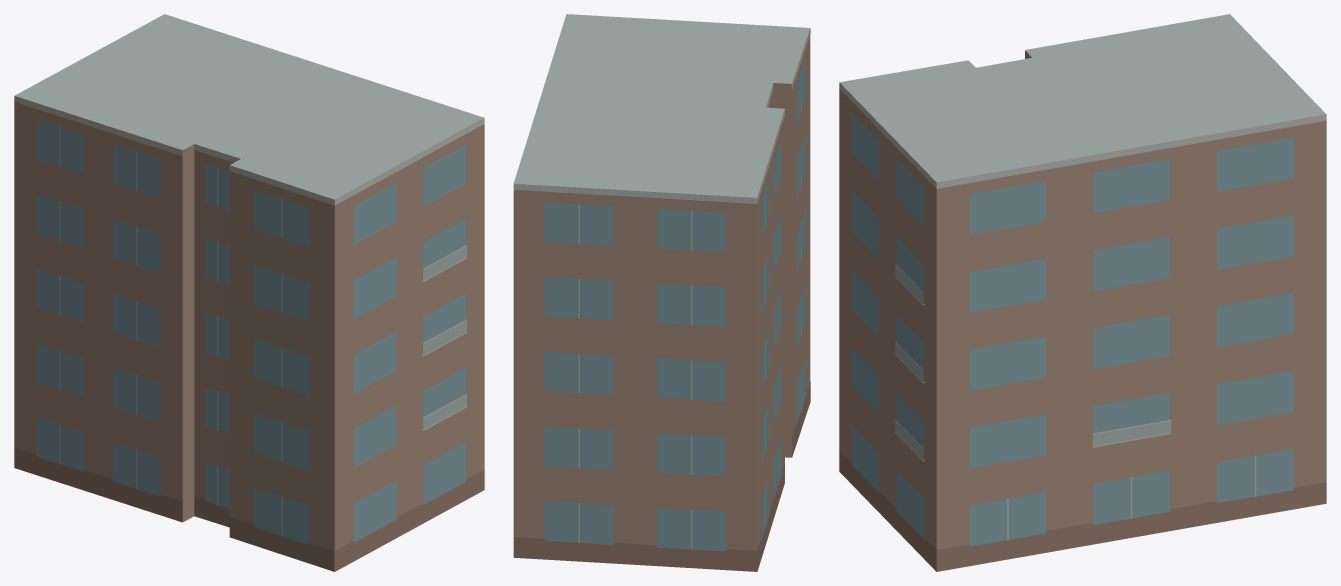
The model's file is survey-upis-32957054.glb.
The picture shows the model from 3 angles, left to right: view 1: azimuth 30°, elevation 25°; view 2: azimuth 150°, elevation 25°; view 3: azimuth 270°, elevation 25°; orthographic projection. The views are drawn at different scales.
Visible parts, largest first — view 1: survey-upis-32957054.tmp; view 2: survey-upis-32957054.tmp; view 3: survey-upis-32957054.tmp.
Boxes of the visible parts, x1=… form: survey-upis-32957054.tmp: x1=14, y1=14, x2=484, y2=571; survey-upis-32957054.tmp: x1=513, y1=14, x2=810, y2=571; survey-upis-32957054.tmp: x1=839, y1=14, x2=1326, y2=571.
Size of the model in its own units: 14.03 by 15.1 by 17.13.
